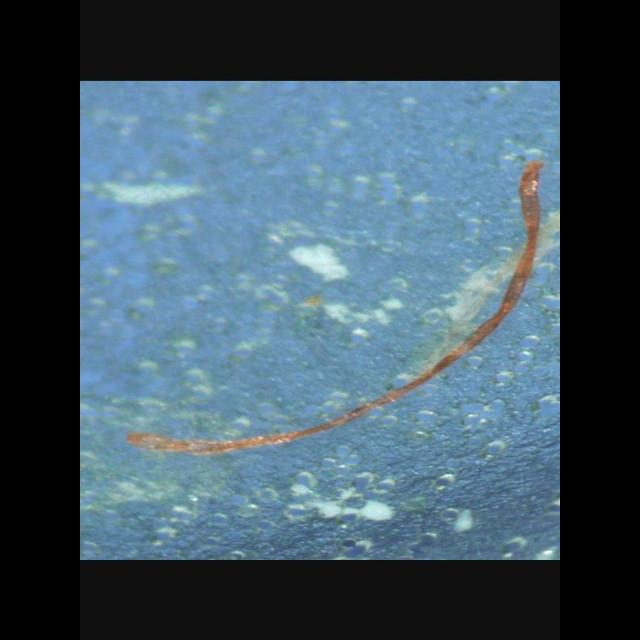Fibre: (109, 157, 559, 459)
